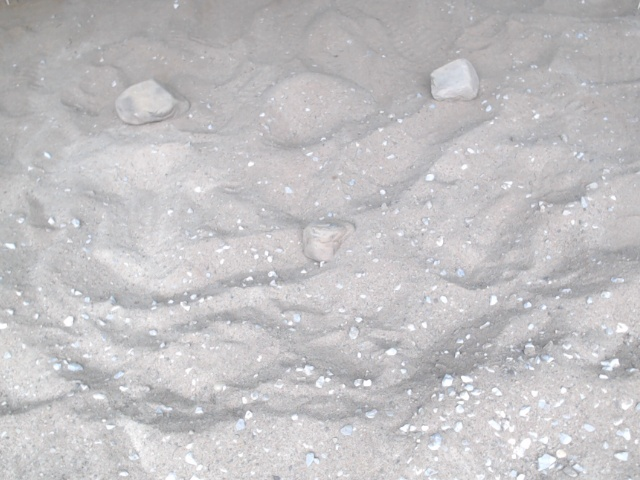rock: (112, 77, 194, 129), (299, 215, 360, 267), (425, 55, 483, 106)
